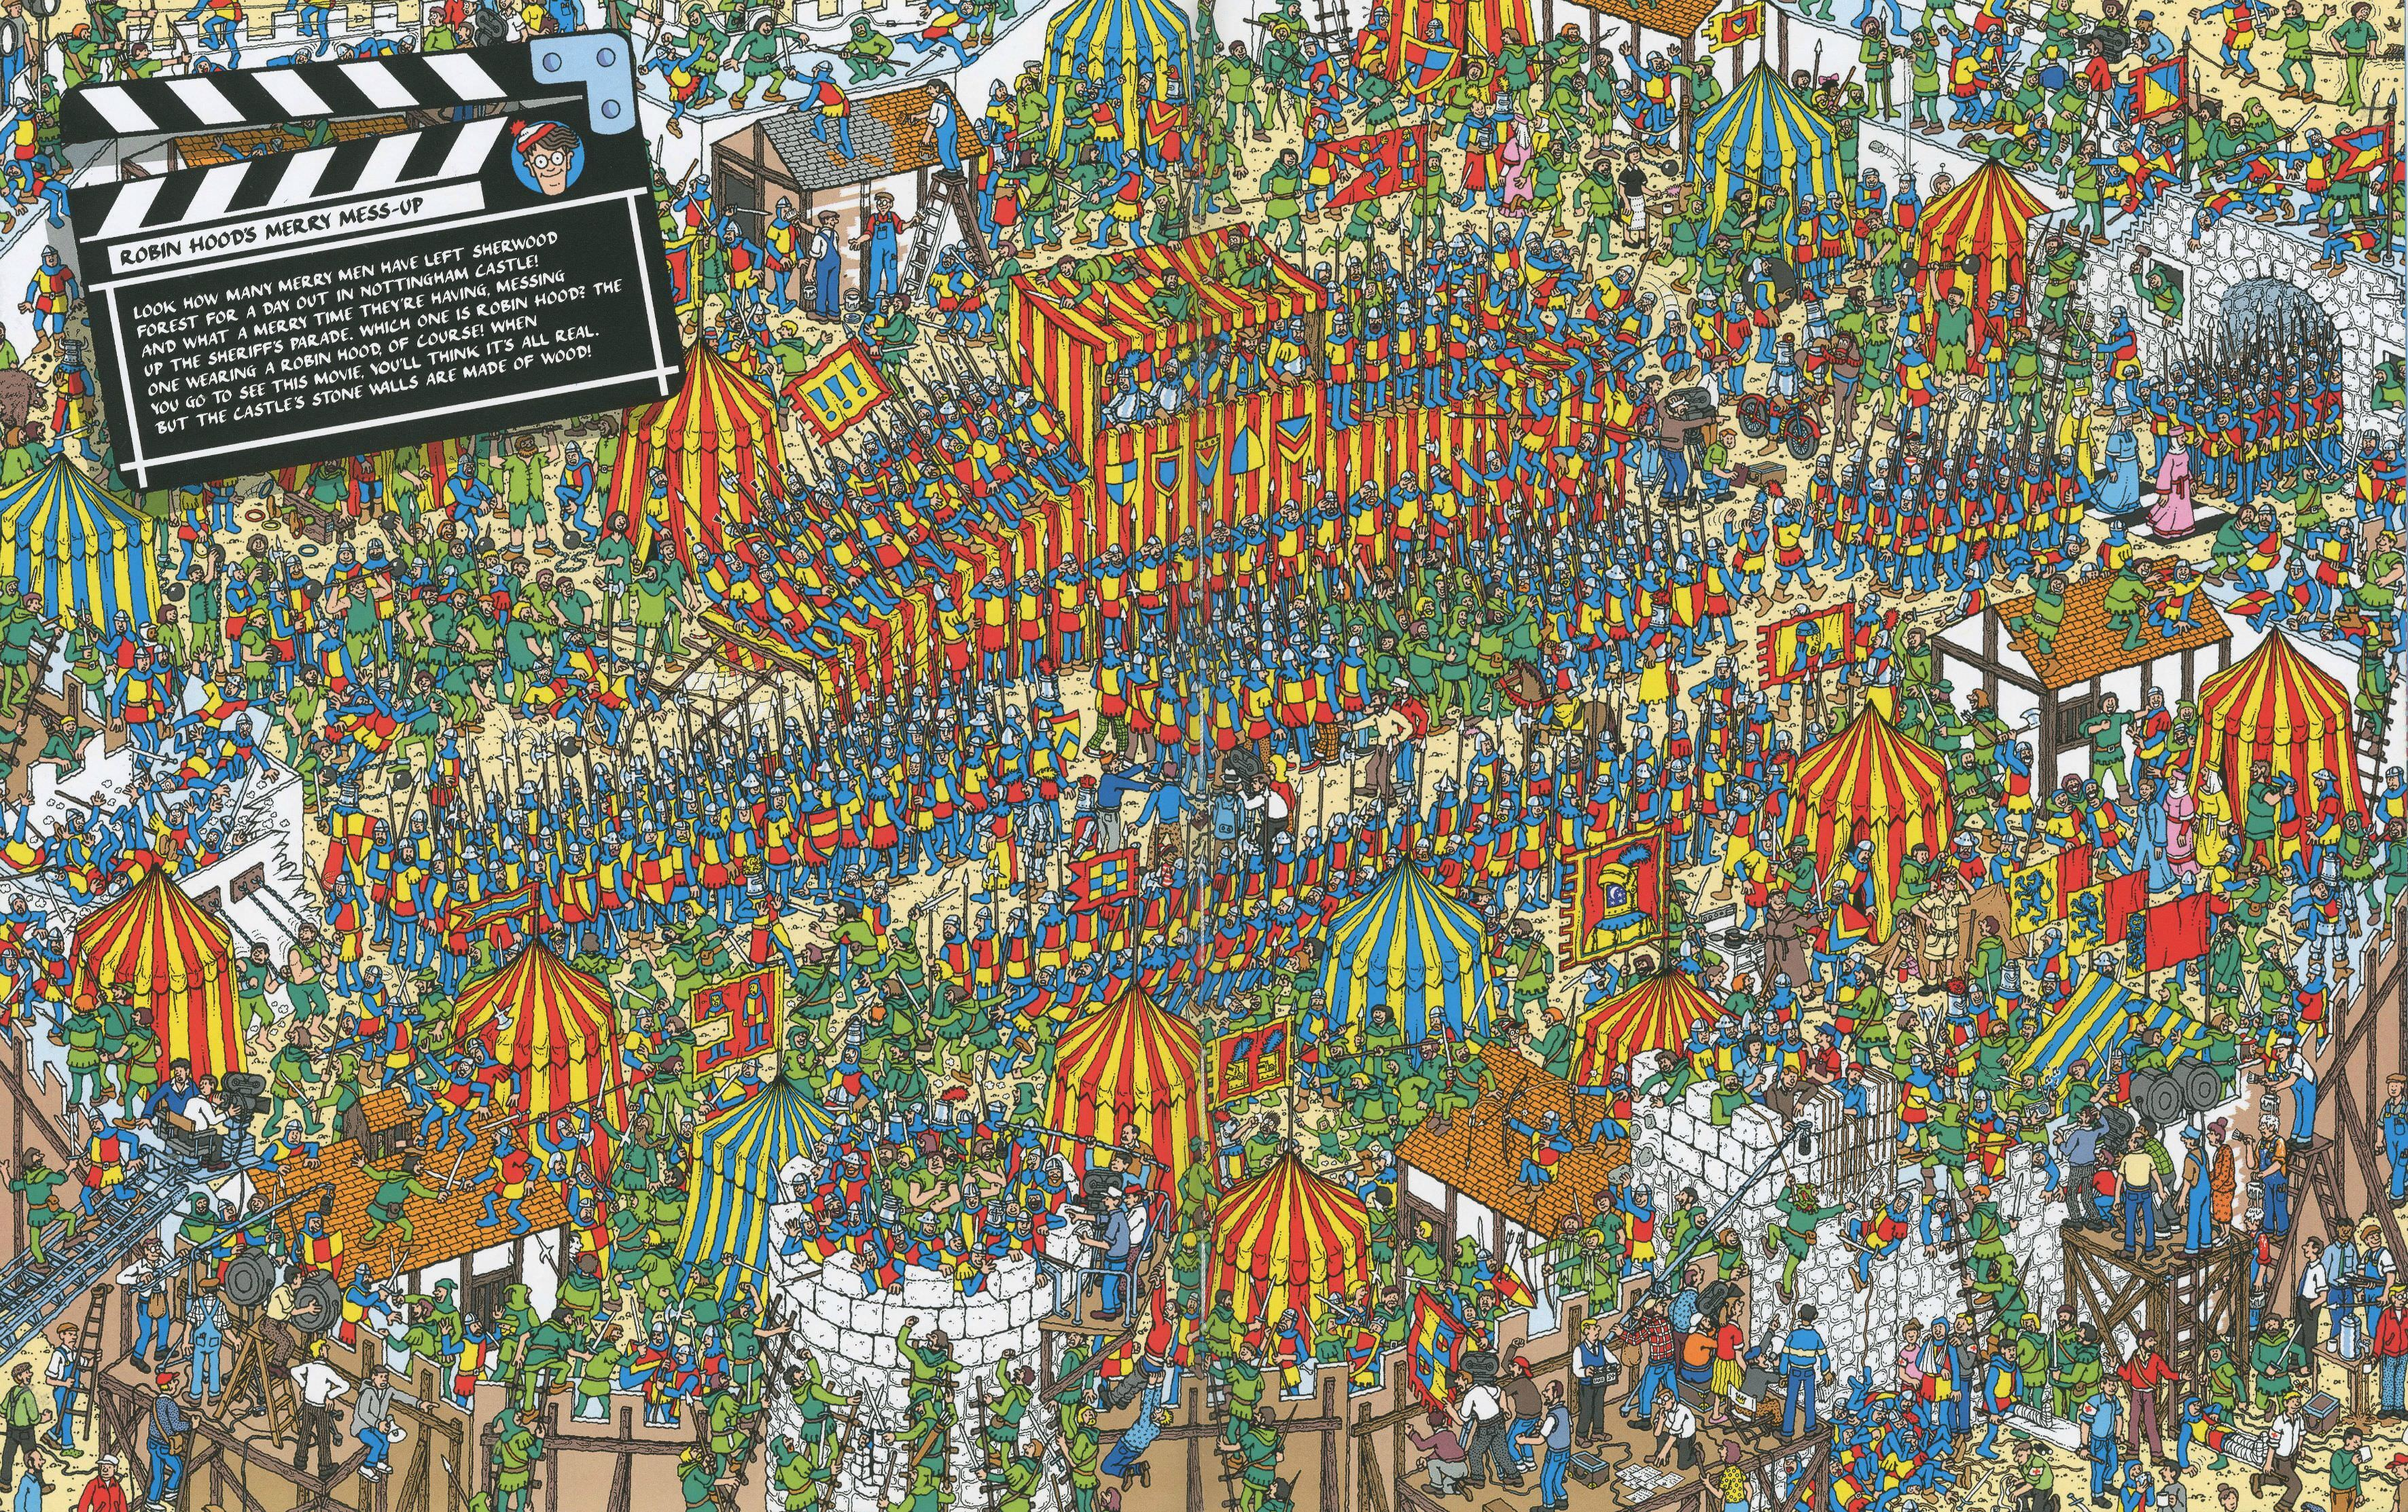Waldo: (514, 115, 587, 202), (1488, 1010, 1532, 1057)
